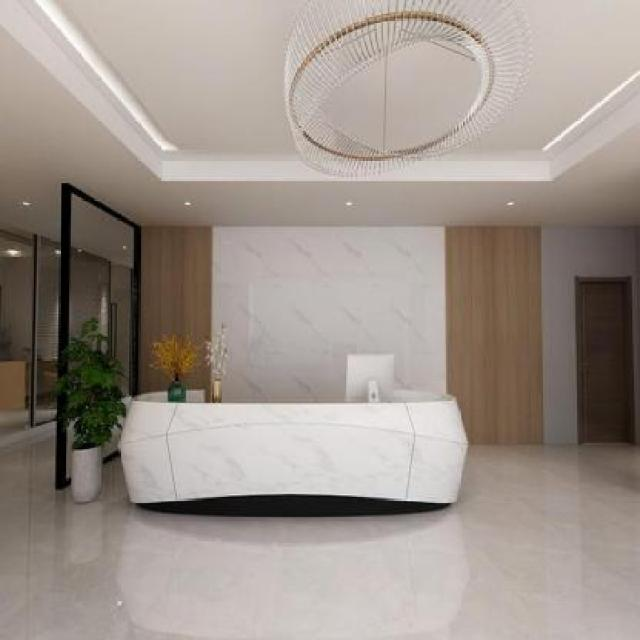frontdesk: (110, 370, 484, 524)
